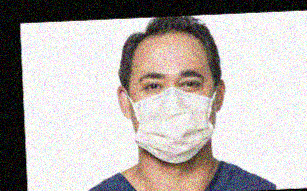with_mask: (130, 65, 216, 162)
